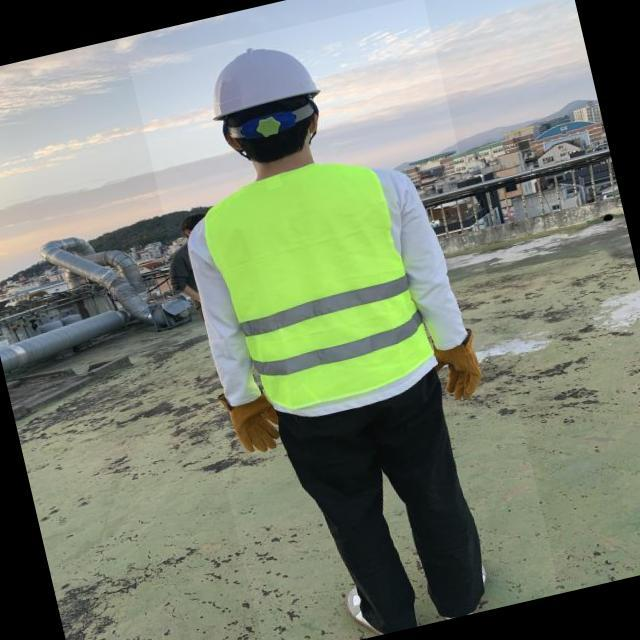Gloves: (208, 378, 290, 461), (428, 329, 488, 406)
Helmet: (198, 34, 321, 124)
Person: (173, 24, 515, 640)
Safety Boot: (338, 580, 392, 640)
Safety Vest: (197, 148, 440, 419)
